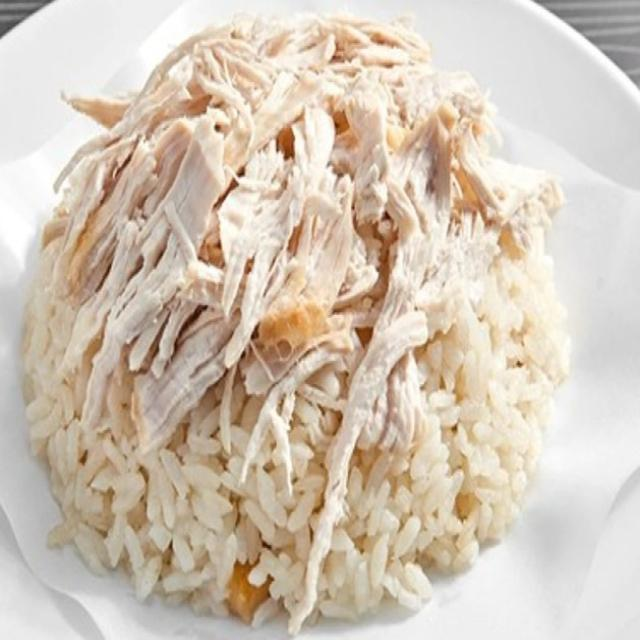ana_yemek: (19, 4, 572, 636)
